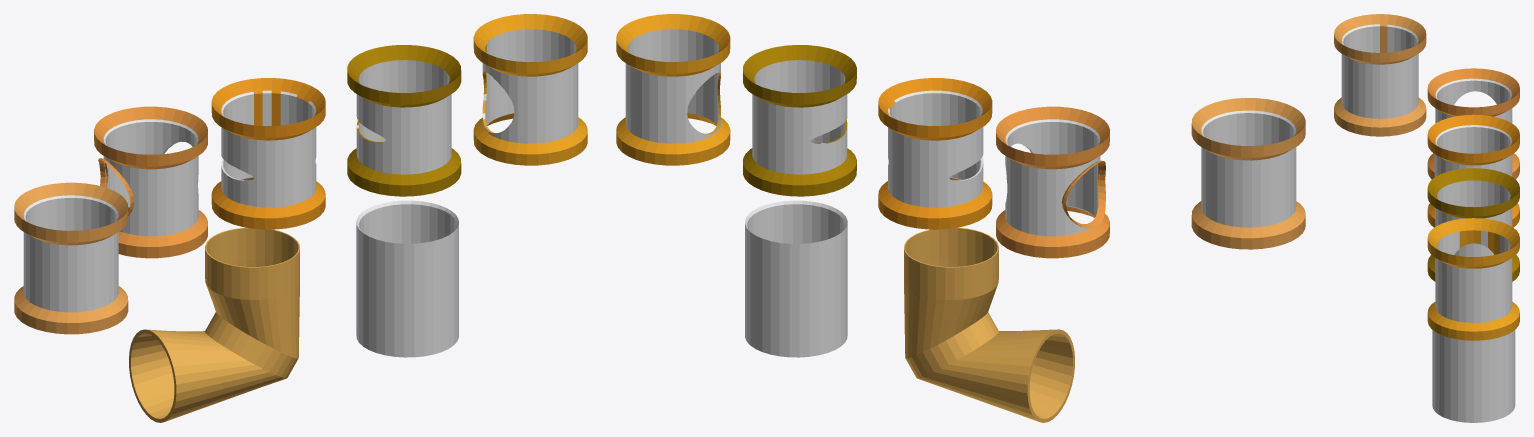
Rendered from tubedoubletrou.fbx.
The picture shows the model from 3 angles, left to right: view 1: azimuth 30°, elevation 25°; view 2: azimuth 150°, elevation 25°; view 3: azimuth 270°, elevation 25°; orthographic projection. The views are drawn at different scales.
Visible parts, largest first — view 1: Cylinder.005, Cylinder.006, Cylinder.002, Cylinder, Cylinder.003, Cylinder.001, Cylinder.004; view 2: Cylinder.005, Cylinder.006, Cylinder.002, Cylinder.003, Cylinder, Cylinder.004, Cylinder.001; view 3: Cylinder.002, Cylinder.001, Cylinder.006, Cylinder, Cylinder.003, Cylinder.004.
Part boxes in pixels (bbox=[...]): Cylinder.005: bbox=[129, 227, 299, 422]; Cylinder.006: bbox=[356, 200, 458, 357]; Cylinder.002: bbox=[14, 182, 128, 334]; Cylinder: bbox=[347, 45, 461, 196]; Cylinder.003: bbox=[211, 78, 325, 229]; Cylinder.001: bbox=[473, 14, 587, 165]; Cylinder.004: bbox=[94, 106, 207, 258]; Cylinder.005: bbox=[904, 227, 1074, 422]; Cylinder.006: bbox=[745, 200, 847, 357]; Cylinder.002: bbox=[1191, 98, 1305, 249]; Cylinder.003: bbox=[878, 78, 992, 229]; Cylinder: bbox=[743, 45, 856, 196]; Cylinder.004: bbox=[996, 106, 1109, 258]; Cylinder.001: bbox=[616, 14, 730, 165]; Cylinder.002: bbox=[1334, 14, 1426, 136]; Cylinder.001: bbox=[1427, 218, 1519, 340]; Cylinder.006: bbox=[1432, 330, 1515, 422]; Cylinder: bbox=[1427, 168, 1519, 281]; Cylinder.003: bbox=[1427, 114, 1519, 227]; Cylinder.004: bbox=[1427, 68, 1519, 179].
Size of the model in its own units: 1496 by 670 by 484.
